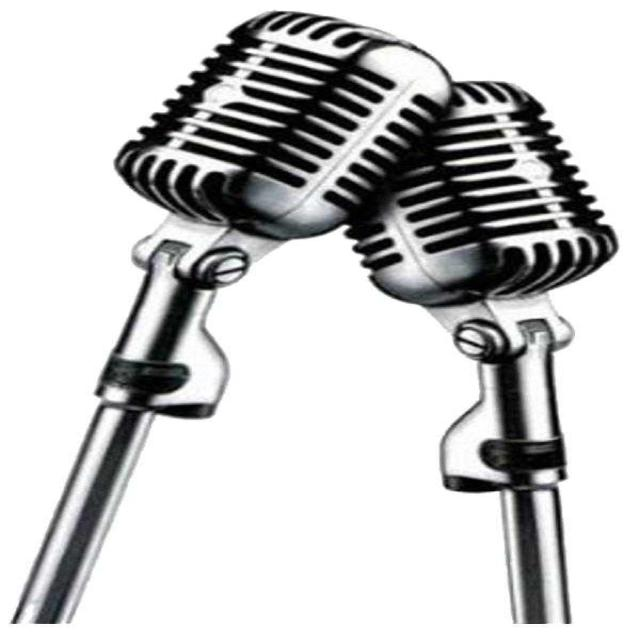microphone: (97, 8, 477, 246), (341, 104, 619, 304)
